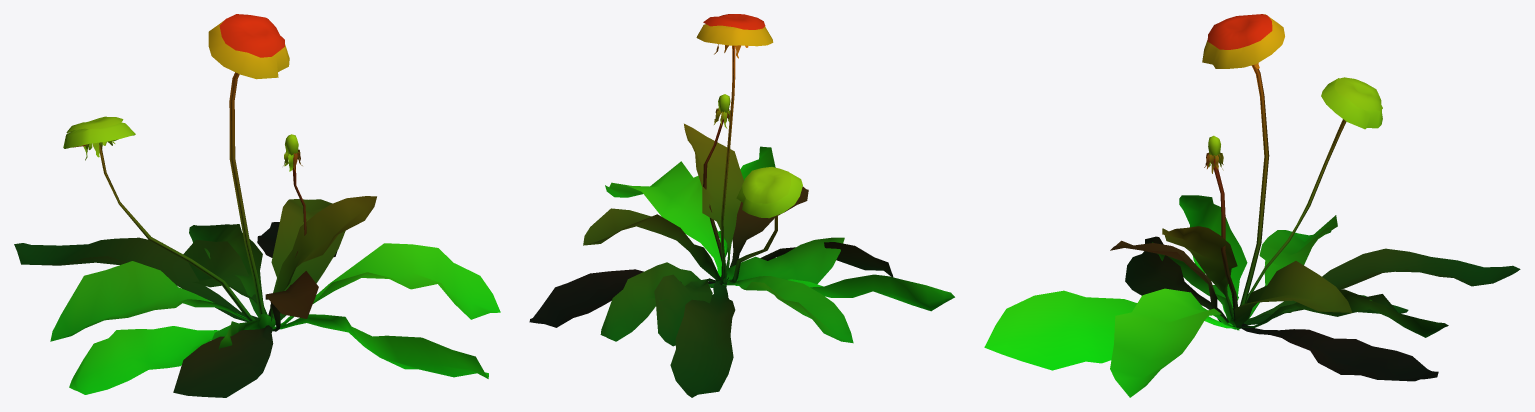
Rendered from SM_OW_Dandelion_a_LOD0.fbx.
The picture shows the model from 3 angles, left to right: view 1: azimuth 30°, elevation 25°; view 2: azimuth 150°, elevation 25°; view 3: azimuth 270°, elevation 25°; orthographic projection. The views are drawn at different scales.
Visible parts, largest first — view 1: SM_OW_Dandelion_a_LOD0; view 2: SM_OW_Dandelion_a_LOD0; view 3: SM_OW_Dandelion_a_LOD0.
Boxes of the visible parts, box(x1,y1,x2,y2) form: SM_OW_Dandelion_a_LOD0: box(14, 14, 500, 397); SM_OW_Dandelion_a_LOD0: box(529, 14, 954, 397); SM_OW_Dandelion_a_LOD0: box(984, 14, 1520, 397).
Size of the model in its own units: 0.2204 by 0.1617 by 0.2577.
